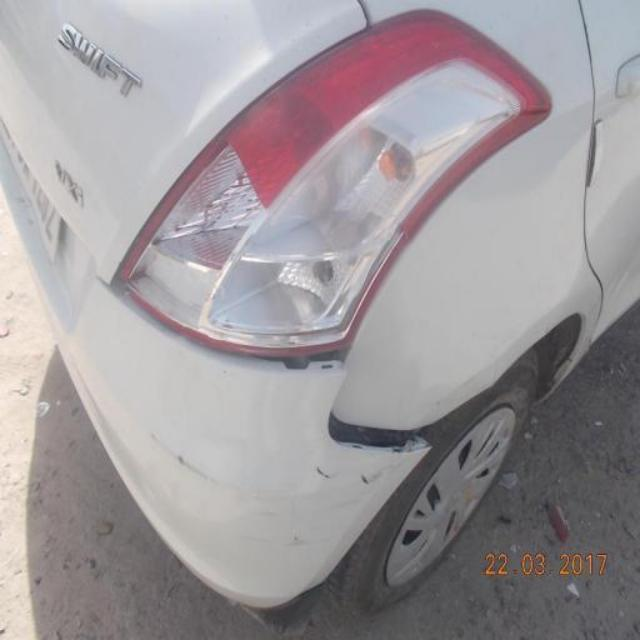crack: (327, 412, 432, 454)
dislocated part: (242, 348, 349, 373)
